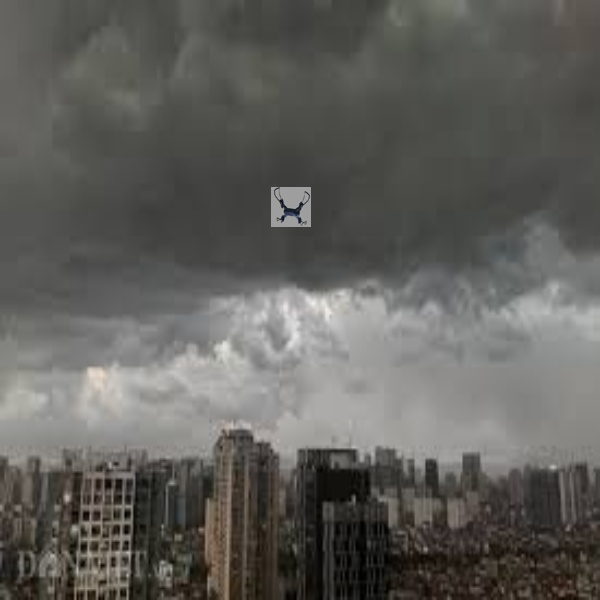drone: (269, 186, 311, 228)
